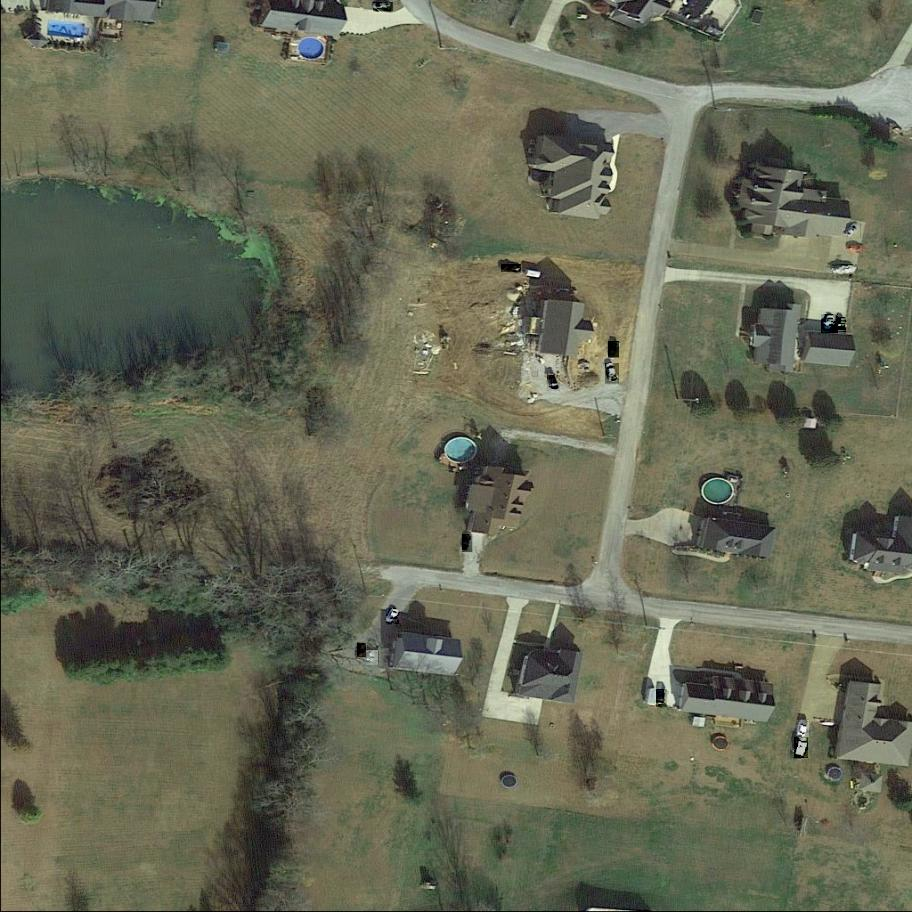ship: (832, 265, 858, 279)
small-vehicle: (821, 314, 838, 334), (794, 737, 808, 759), (605, 364, 619, 385), (796, 719, 810, 738), (548, 375, 562, 393), (386, 608, 400, 625), (847, 223, 861, 239), (501, 264, 522, 274), (609, 341, 621, 358), (463, 535, 474, 553), (367, 650, 379, 666), (657, 690, 666, 706), (374, 2, 392, 10), (837, 318, 847, 332), (357, 643, 366, 658), (848, 245, 862, 252)
